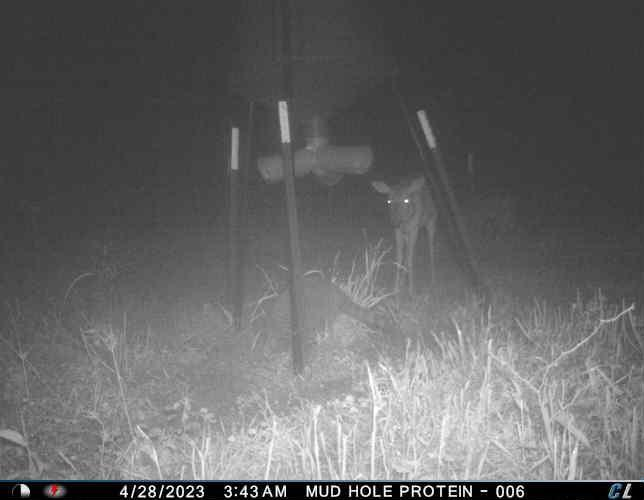Deer: (370, 175, 448, 305)
Raccoon: (267, 274, 392, 366)
